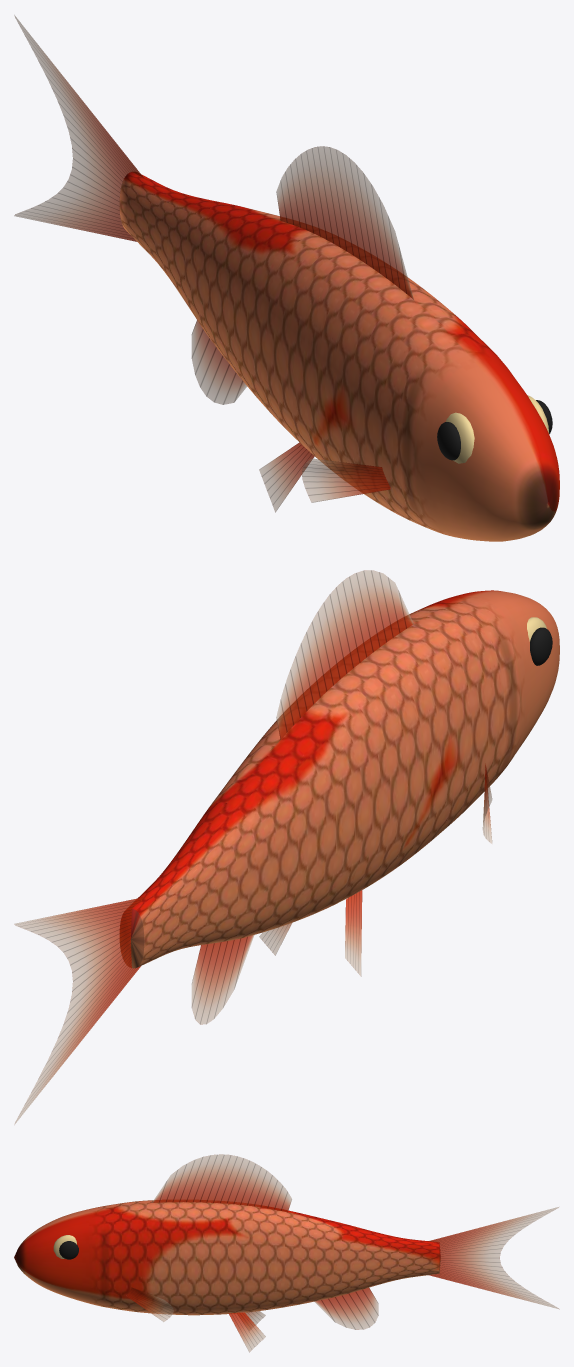
Rendered from wakin_2.glb.
3 renders of one model, top to bottom at view 1: azimuth 30°, elevation 25°; view 2: azimuth 150°, elevation 25°; view 3: azimuth 270°, elevation 25°, orthographic. The views are drawn at different scales.
Visible parts, largest first — view 1: body, fins, iris, pupil; view 2: body, fins, pupil; view 3: body, fins, pupil.
Boxes of the visible parts, left/top/right/bottom form: body: left=119, top=172, right=559, bottom=541; fins: left=14, top=15, right=413, bottom=512; iris: left=446, top=395, right=549, bottom=463; pupil: left=437, top=400, right=552, bottom=460; body: left=120, top=590, right=559, bottom=968; fins: left=14, top=570, right=492, bottom=1124; pupil: left=530, top=627, right=552, bottom=665; body: left=14, top=1200, right=440, bottom=1315; fins: left=126, top=1154, right=559, bottom=1352; pupil: left=59, top=1241, right=78, bottom=1259.
Bounding box in the file's own units: 0.1914 × 0.3716 × 0.98.
Materials: 4 (2 with a texture image).
